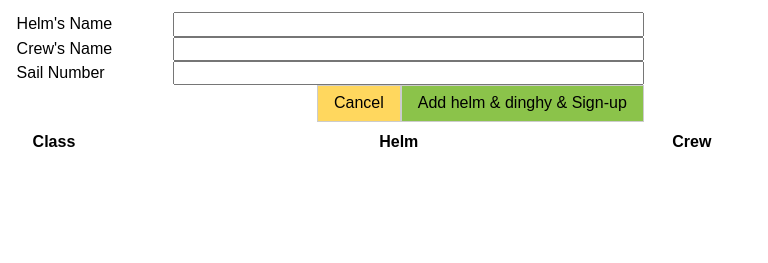
Test: when sign-up button clicked › when sign-up fails › displays failure message and entered values remain on form
The width and height of the screenshot is (768, 263).
Type "Chris Marshall" into the field labelled "Helm's Name".
click(409, 24); type("Chris Marshall")  # box [173,12,644,37]
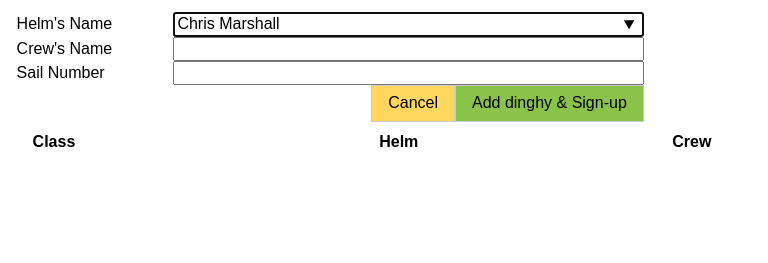
Type "1234" into the field labelled "Sail Number".
click(409, 73); type("1234")  # box [173,61,644,85]
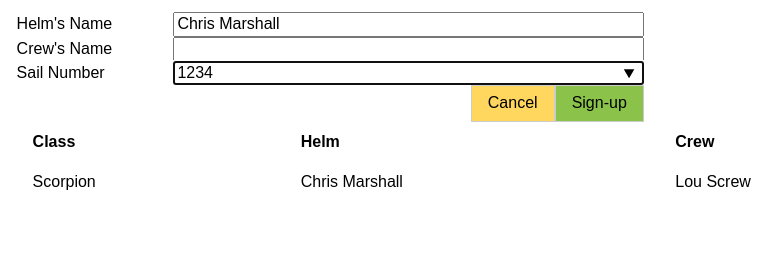
Type "Lou Screw" into the field labelled "Crew's Name".
click(409, 49); type("Lou Screw")  # box [173,36,644,61]
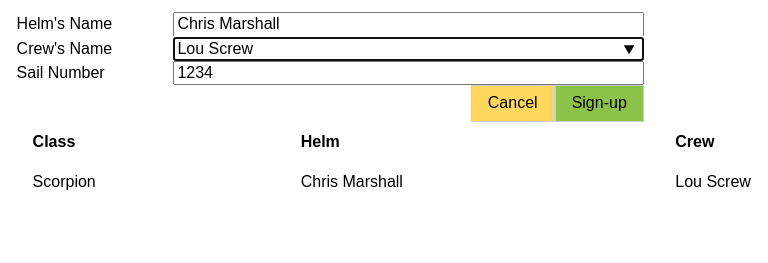
Click the button "Sign-up".
click(599, 104)  # box [555,85,644,122]
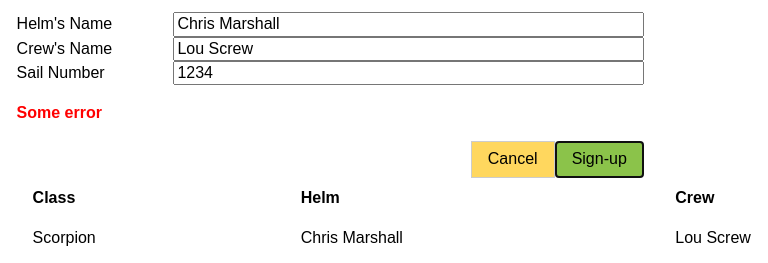
expect the text "Some error" is shown: met, box [17,104,102,121]
